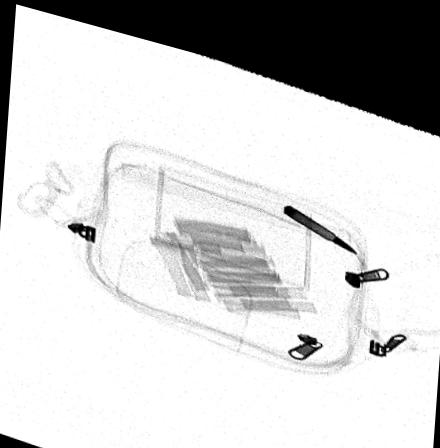Bullet: (280, 187, 360, 235)
